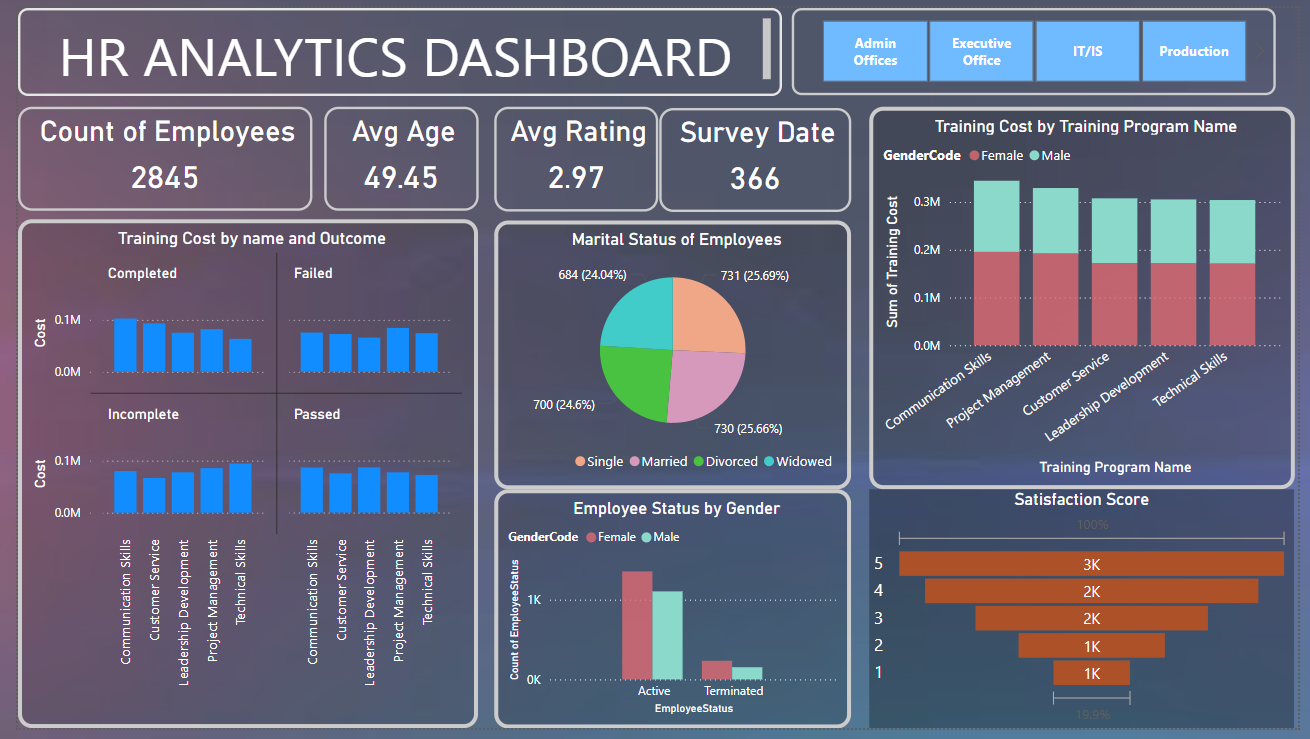

The dashboard page shown, as its layout file describes it:
{"tool":"powerbi","page":{"name":"Page 1","canvas":[1280,720],"ordinal":0},"visuals":[{"type":"card","title":"Avg Age","fields":{"Values":["Avg(Cleaned_HR_Data_Analysis.Age)"]},"box":[305.7,99,154.1,103.9],"z":0},{"type":"textbox","box":[0,0,764.3,87.8],"z":1000},{"type":"slicer","fields":{"Values":["Cleaned_HR_Data_Analysis.DepartmentType"]},"box":[773.6,0,483.8,87.6],"z":2000},{"type":"card","title":"Count of Employees","fields":{"Values":["CountNonNull(Cleaned_HR_Data_Analysis.Current Employee Rating)"]},"box":[0,99,294.7,103.9],"z":3000},{"type":"card","title":"Avg Rating","fields":{"Values":["Avg(Cleaned_HR_Data_Analysis.Current Employee Rating)"]},"box":[475.7,99,163.9,105.2],"z":4000},{"type":"clusteredColumnChart","title":"Training Cost by name and Outcome","fields":{"Category":["Cleaned_HR_Data_Analysis.Training Program Name"],"Y":["Sum(Cleaned_HR_Data_Analysis.Training Cost)"],"Rows":["Cleaned_HR_Data_Analysis.Training Outcome"]},"box":[0,211.6,459.8,508.7],"z":5000},{"type":"pieChart","title":"Marital Status of Employees","fields":{"Category":["Cleaned_HR_Data_Analysis.MaritalDesc"],"Y":["CountNonNull(Cleaned_HR_Data_Analysis.MaritalDesc)"]},"box":[475.8,212,356.8,268.9],"z":6000},{"type":"lineStackedColumnComboChart","title":"Training Cost by Training Program Name","fields":{"Category":["Cleaned_HR_Data_Analysis.Training Program Name"],"Y":["Sum(Cleaned_HR_Data_Analysis.Training Cost)"],"Series":["Cleaned_HR_Data_Analysis.GenderCode"]},"box":[850.7,98.3,425.4,382.7],"z":7000},{"type":"card","title":"Survey Date","fields":{"Values":["Count(Cleaned_HR_Data_Analysis.Survey Date)"]},"box":[640.8,100.3,192,103.9],"z":8000},{"type":"clusteredColumnChart","title":"Employee Status by Gender","fields":{"Category":["Cleaned_HR_Data_Analysis.EmployeeStatus"],"Y":["CountNonNull(Cleaned_HR_Data_Analysis.EmployeeStatus)"],"Series":["Cleaned_HR_Data_Analysis.GenderCode"]},"box":[475.8,481,356.8,239.2],"z":9000},{"type":"funnel","title":"Satisfaction Score ","fields":{"Category":["Cleaned_HR_Data_Analysis.Satisfaction Score"],"Y":["Sum(Cleaned_HR_Data_Analysis.Satisfaction Score)"]},"box":[851,481,425,239],"z":10000}]}

Visuals, with their boxes in screenshot pixels (x1, y1, x2, y2), scaled from the page's 1280x720 canvas onto the 1310x739 screenshot:
"Avg Age" card: x1=313, y1=102, x2=471, y2=208
textbox: x1=0, y1=0, x2=782, y2=90
slicer - Cleaned_HR_Data_Analysis.DepartmentType: x1=792, y1=0, x2=1287, y2=90
"Count of Employees" card: x1=0, y1=102, x2=302, y2=208
"Avg Rating" card: x1=487, y1=102, x2=655, y2=210
"Training Cost by name and Outcome" clusteredColumnChart: x1=0, y1=217, x2=471, y2=738
"Marital Status of Employees" pieChart: x1=487, y1=218, x2=852, y2=494
"Training Cost by Training Program Name" lineStackedColumnComboChart: x1=871, y1=101, x2=1306, y2=494
"Survey Date" card: x1=656, y1=103, x2=852, y2=210
"Employee Status by Gender" clusteredColumnChart: x1=487, y1=494, x2=852, y2=738
"Satisfaction Score " funnel: x1=871, y1=494, x2=1306, y2=738
